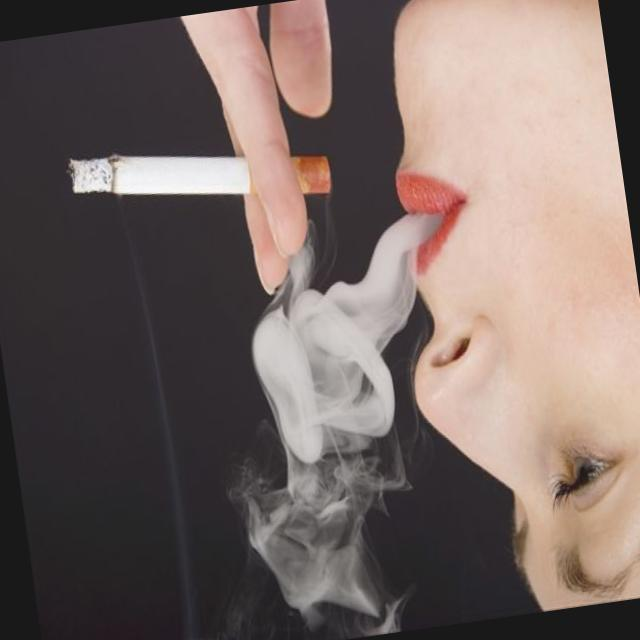cigarette: (68, 128, 256, 220)
